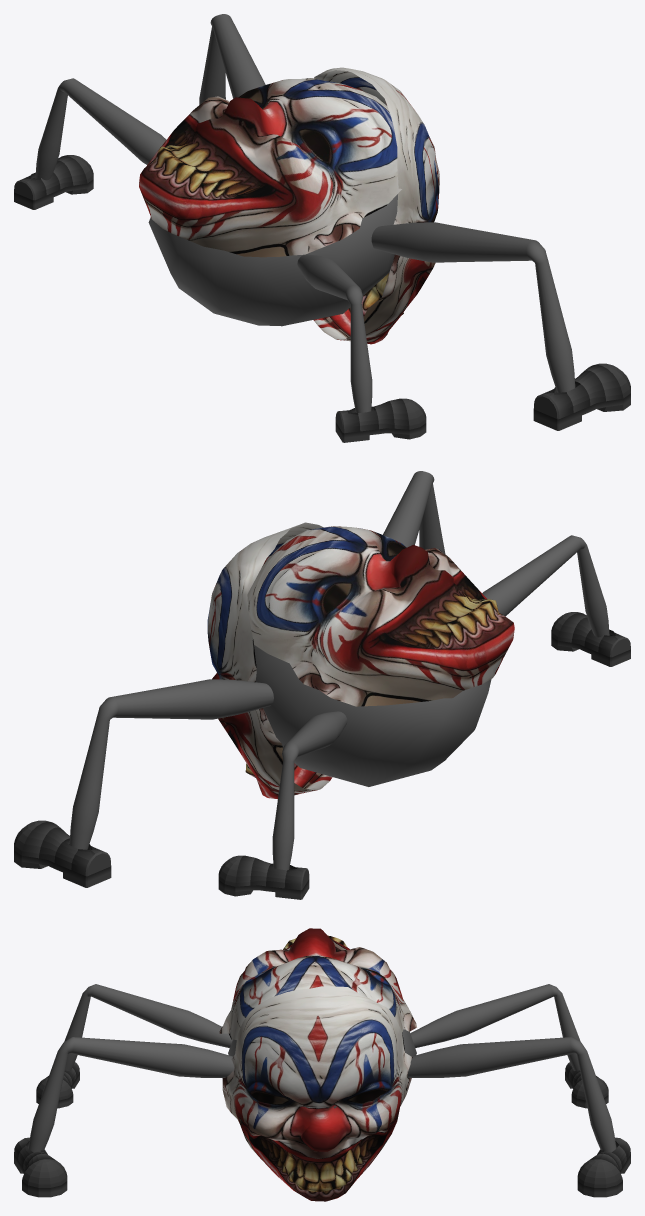
The model's file is CLOWN_MONSTER.fbx.
The picture shows the model from 3 angles, top to bottom: view 1: azimuth 30°, elevation 25°; view 2: azimuth 150°, elevation 25°; view 3: azimuth 270°, elevation 25°; orthographic projection. The views are drawn at different scales.
Visible parts, largest first — view 1: geo1, pPlatonic1, polySurface10, geo2, polySurface4, polySurface6, polySurface8; view 2: geo1, pPlatonic1, polySurface8, geo2, polySurface6, polySurface4, polySurface10; view 3: geo2, geo1, polySurface8, polySurface10, polySurface4, polySurface6.
Boxes of the visible parts, left/top/right/bottom form: geo1: left=139, top=78, right=401, bottom=257; pPlatonic1: left=148, top=194, right=397, bottom=326; polySurface10: left=371, top=222, right=630, bottom=430; geo2: left=313, top=67, right=439, bottom=344; polySurface4: left=14, top=78, right=166, bottom=209; polySurface6: left=297, top=254, right=426, bottom=442; polySurface8: left=199, top=14, right=265, bottom=104; geo1: left=247, top=526, right=514, bottom=706; pPlatonic1: left=254, top=645, right=491, bottom=786; polySurface8: left=14, top=679, right=273, bottom=887; geo2: left=207, top=522, right=332, bottom=799; polySurface6: left=482, top=535, right=630, bottom=666; polySurface4: left=218, top=711, right=347, bottom=899; polySurface10: left=383, top=471, right=445, bottom=553; geo2: left=222, top=986, right=412, bottom=1201; geo1: left=219, top=928, right=416, bottom=1039; polySurface8: left=407, top=1037, right=630, bottom=1197; polySurface10: left=14, top=1037, right=234, bottom=1197; polySurface4: left=410, top=984, right=608, bottom=1108; polySurface6: left=36, top=984, right=232, bottom=1108.
Size of the model in its own units: 546 by 458 by 1160.
